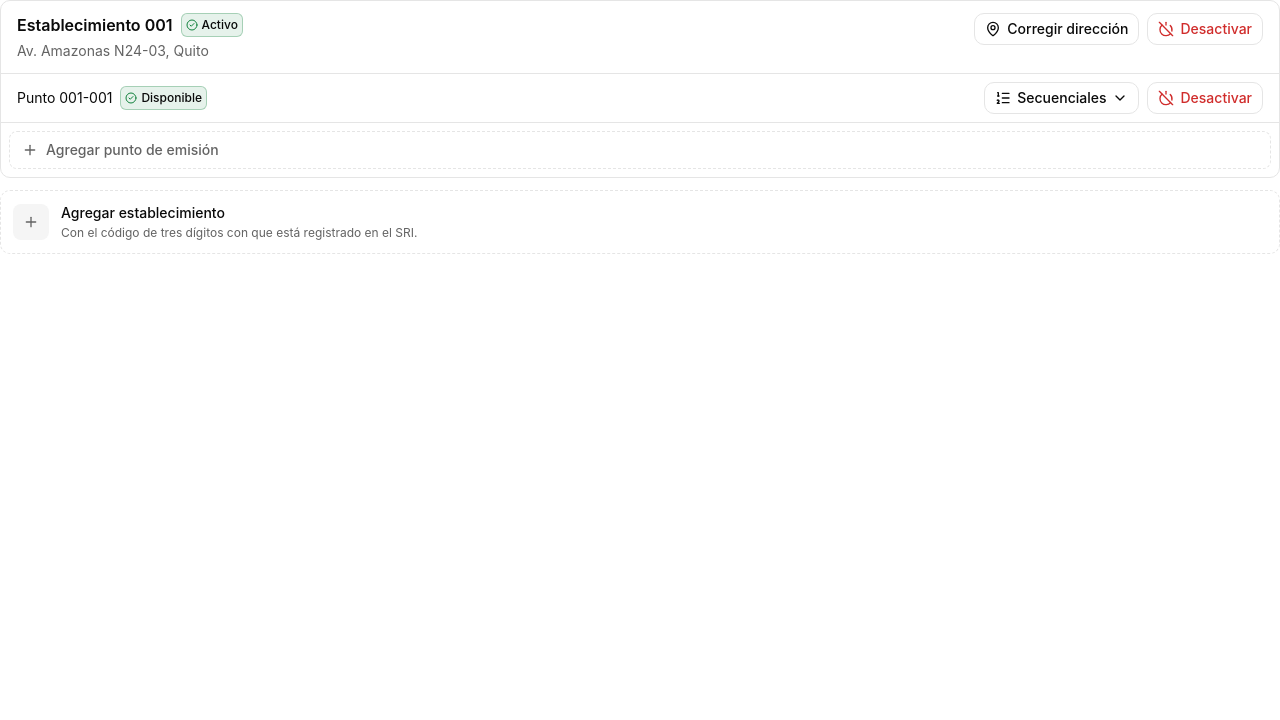
Scenario: Establecimientos (design D14) › corrige la dirección con el código como etiqueta
Click the button with aria-label "Corregir dirección del establecimiento 001" at [1057, 29], box top-left (974, 13), bottom-right (1140, 45)
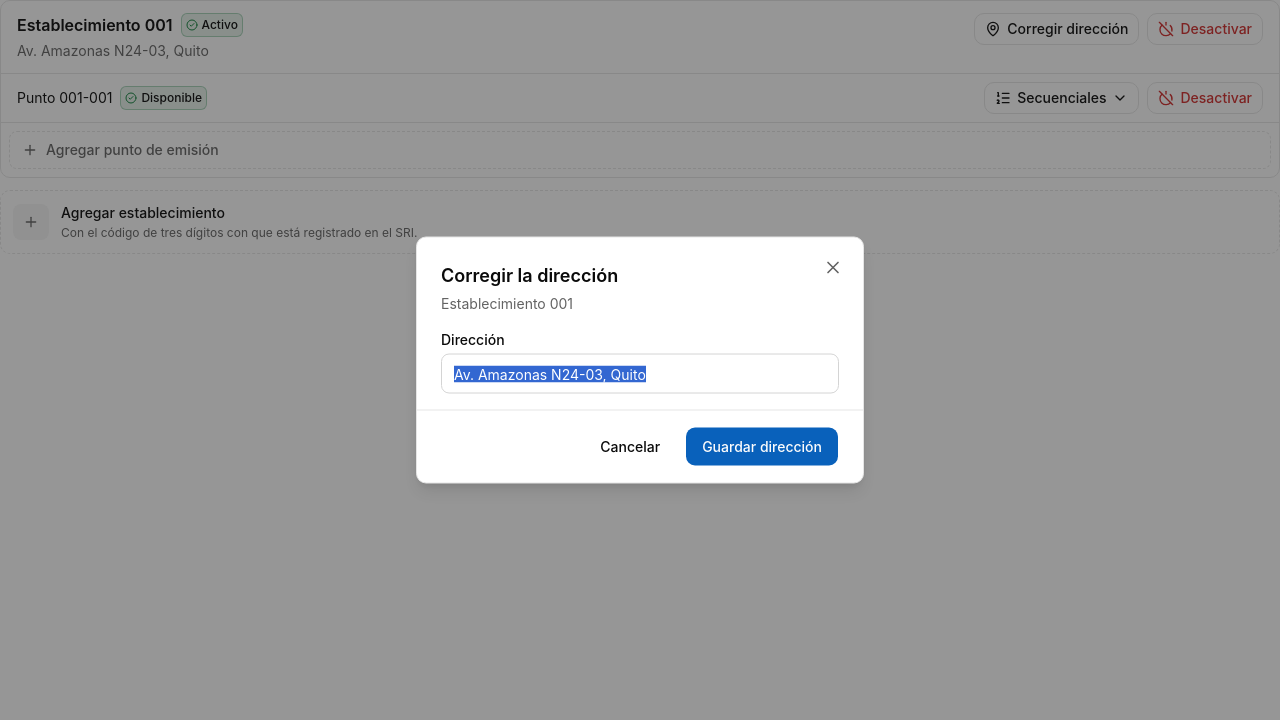
Expected: the text "Establecimiento 001" is shown, top-left (441, 294), bottom-right (573, 312)
Replace the text in the field labelled "Dirección" with "Av. 6 de Diciembre, Quito" at [640, 374], box top-left (441, 354), bottom-right (839, 394)
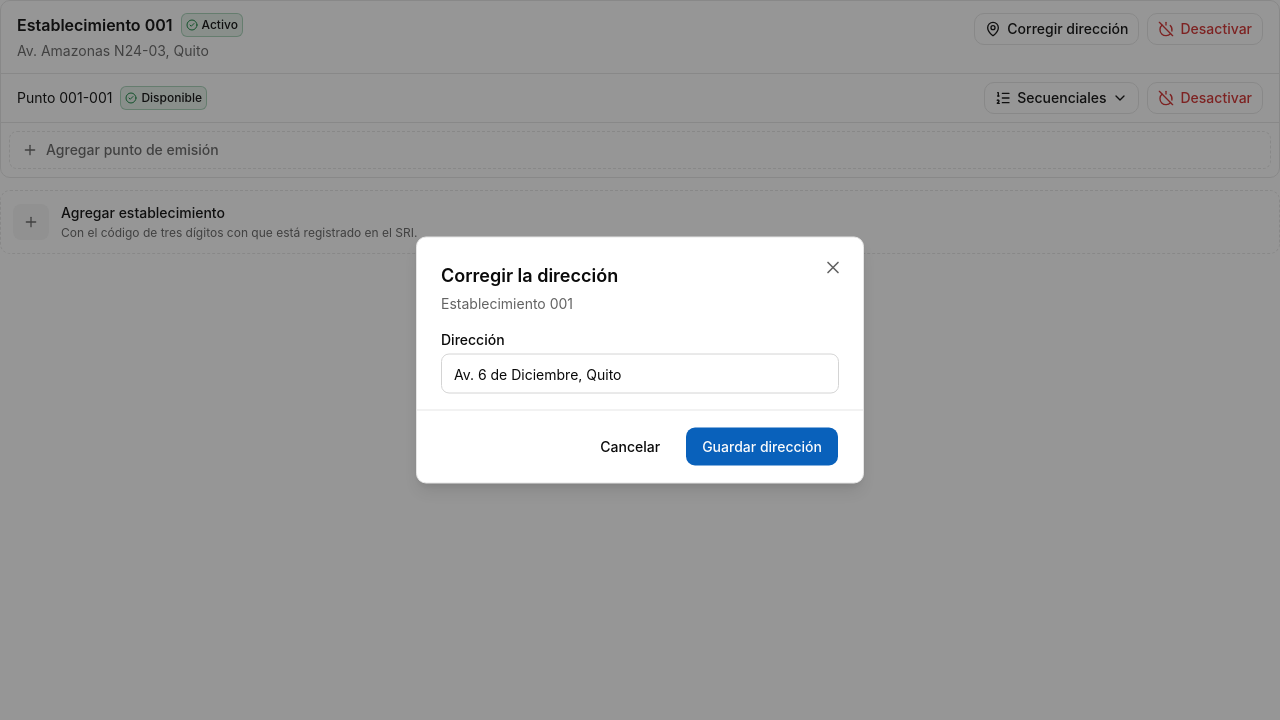
Click the button "Guardar dirección" at [762, 446], box top-left (685, 426), bottom-right (839, 466)
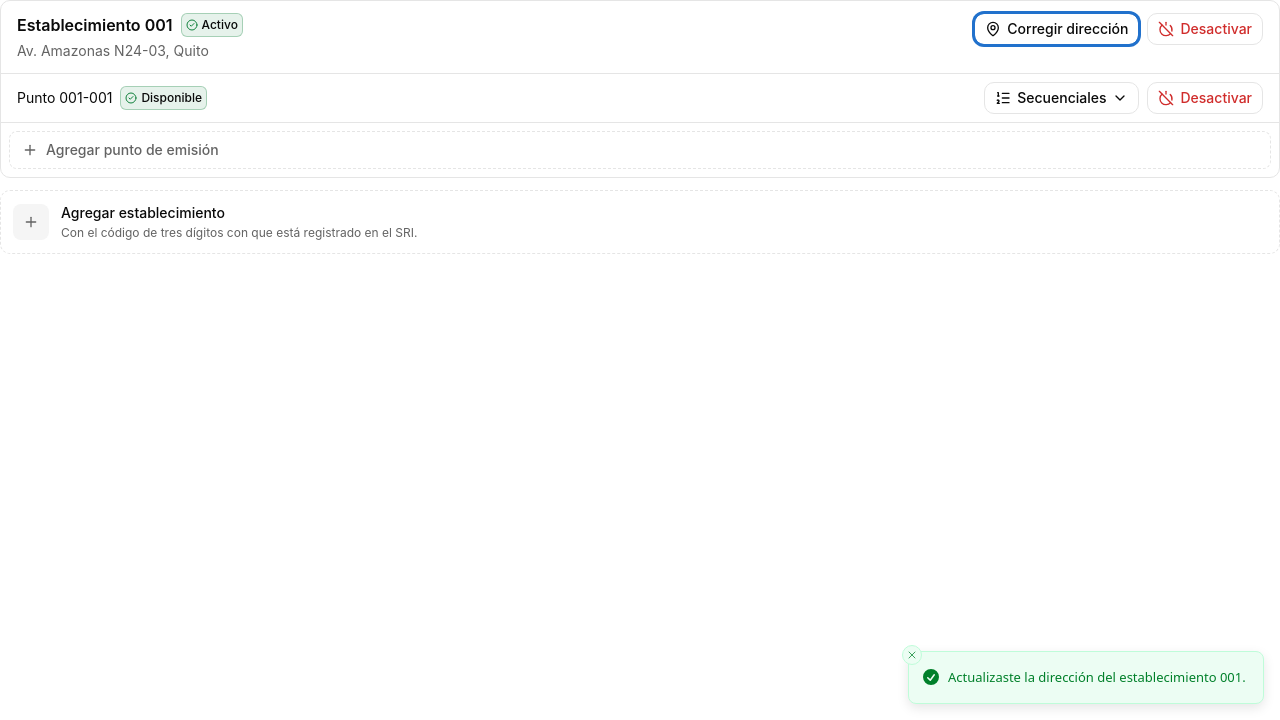
Expected: the text "Actualizaste la dirección del establecimiento 001." is shown, top-left (948, 668), bottom-right (1246, 687)
